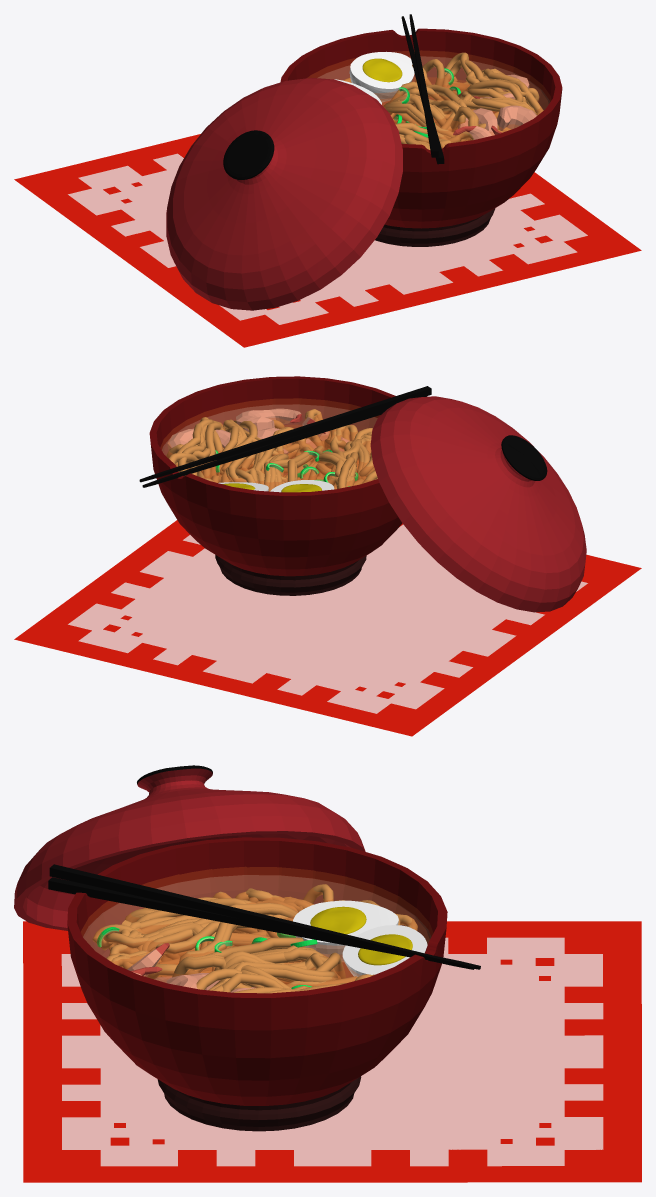
The model's file is ramen.glb.
3 renders of one model, top to bottom at view 1: azimuth 30°, elevation 25°; view 2: azimuth 150°, elevation 25°; view 3: azimuth 270°, elevation 25°, orthographic. The views are drawn at different scales.
Visible parts, largest first — view 1: Object_15; view 2: Object_15; view 3: Object_15.
Boxes of the visible parts, left/top/right/bottom form: Object_15: left=14, top=14, right=641, bottom=347; Object_15: left=14, top=376, right=641, bottom=736; Object_15: left=14, top=765, right=641, bottom=1182.
Bounding box in the file's own units: 0.5245 × 0.213 × 0.5327.
